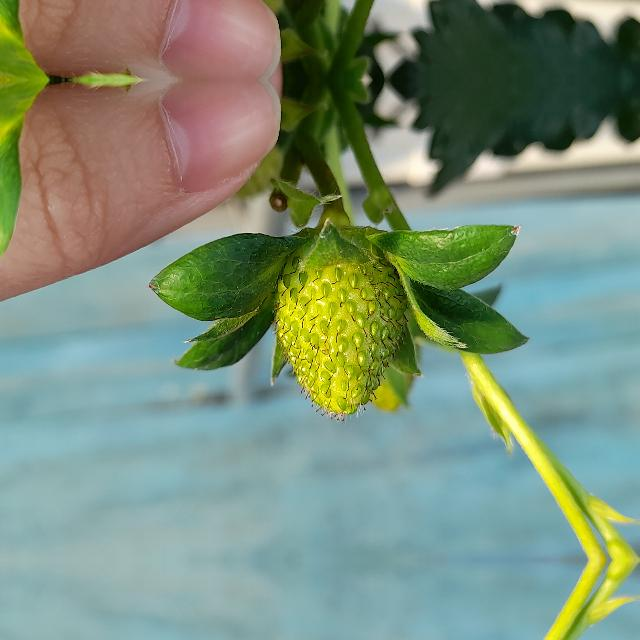Health_25: (270, 239, 408, 425)
